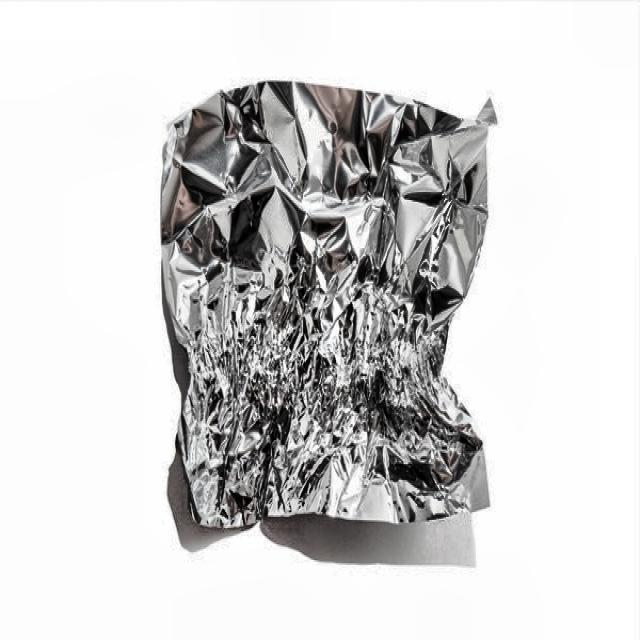Foil: (142, 59, 508, 550)
